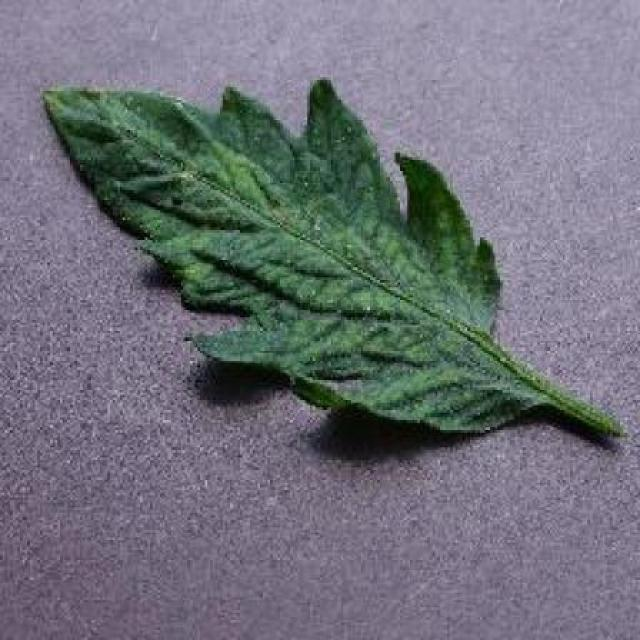Mosaic Virus: (40, 79, 547, 441)
